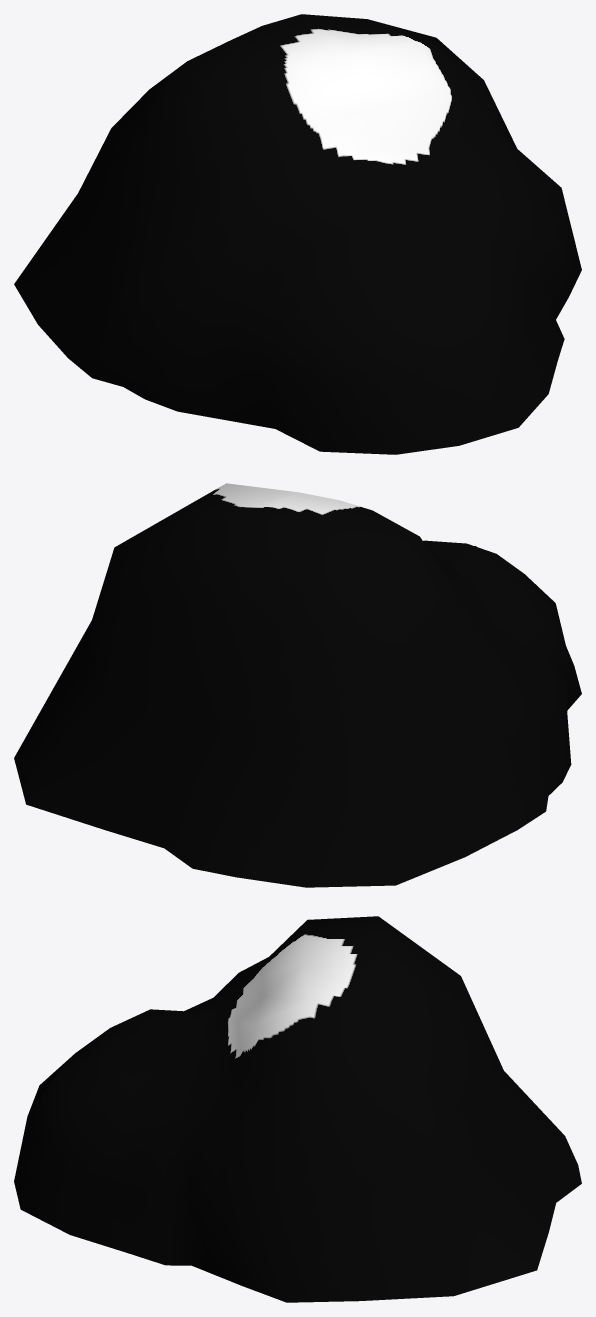
File: BIGROCK3.fbx
3 views of the same model, one above another, from view 1: azimuth 30°, elevation 25°; view 2: azimuth 150°, elevation 25°; view 3: azimuth 270°, elevation 25° (orthographic). The views are drawn at different scales.
Visible parts, largest first — view 1: Cube.002; view 2: Cube.002; view 3: Cube.002.
Boxes of the visible parts, x1,y1,x2,y2 form: Cube.002: (14,14,581,454); Cube.002: (14,483,581,887); Cube.002: (14,916,581,1302).
Bounding box in the file's own units: 5.98 × 3.24 × 6.74.
